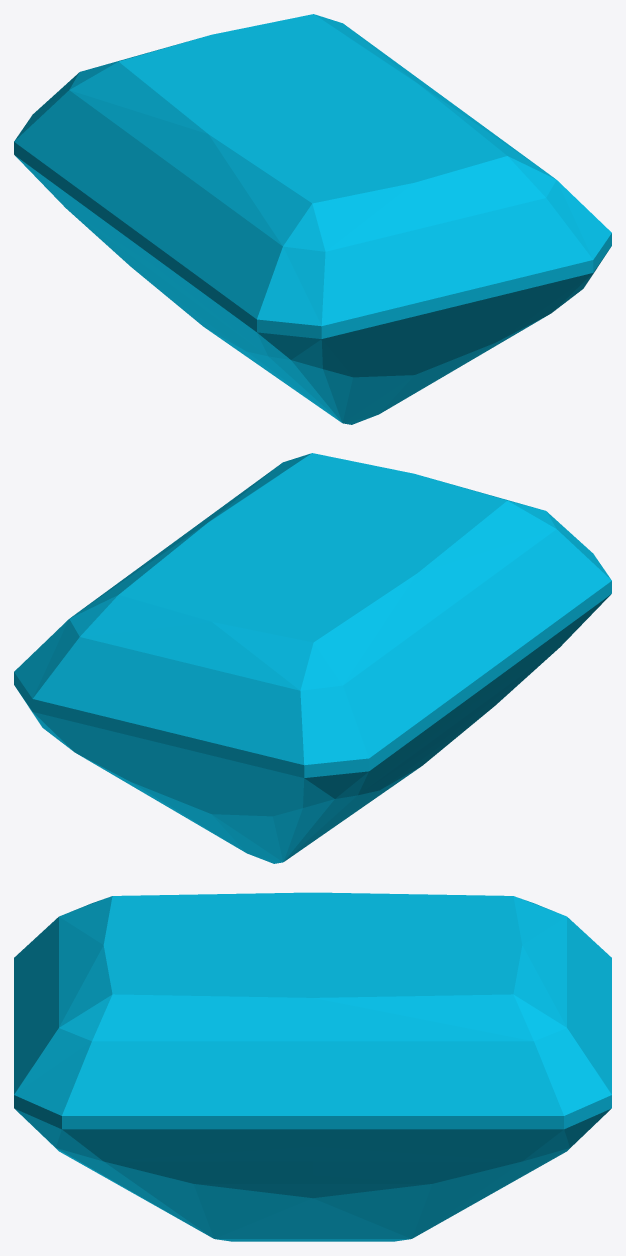
The model's file is Head_Hidden Halo_Radiant_1.0ct_Diamond.glb.
3 views of the same model, one above another, from view 1: azimuth 30°, elevation 25°; view 2: azimuth 150°, elevation 25°; view 3: azimuth 270°, elevation 25° (orthographic). The views are drawn at different scales.
Bounding box in the file's own units: 0.00491 × 0.00379 × 0.00693.
